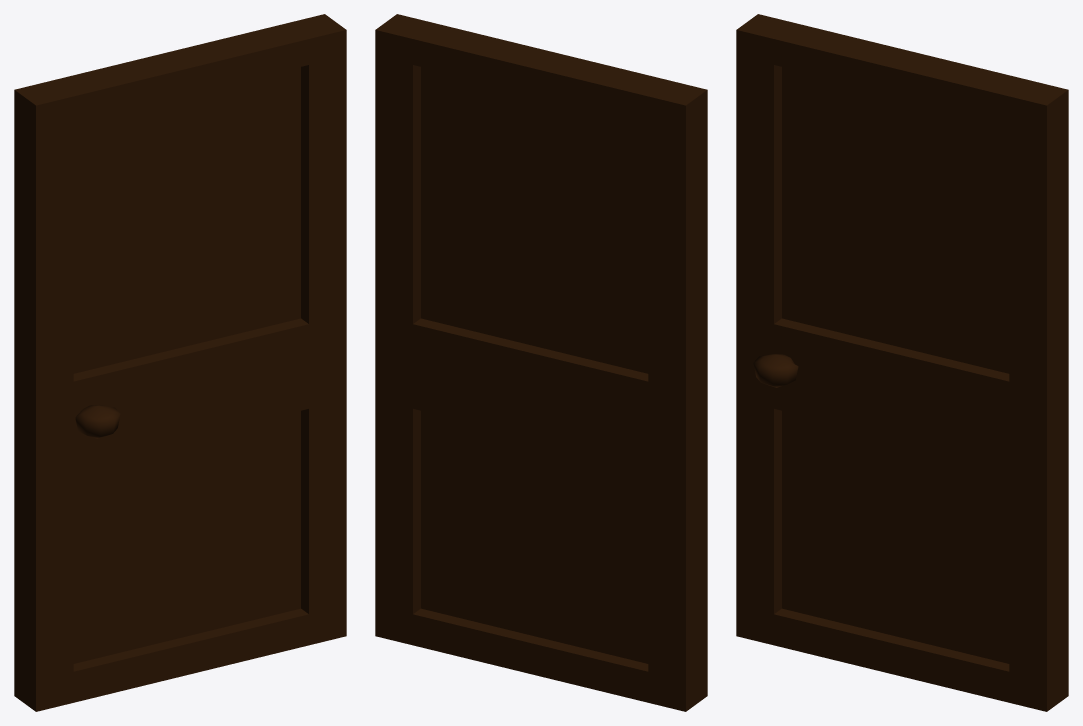
The model's file is ajto_b.FBX.
The picture shows the model from 3 angles, left to right: view 1: azimuth 30°, elevation 25°; view 2: azimuth 150°, elevation 25°; view 3: azimuth 330°, elevation 25°; orthographic projection.
Visible parts, largest first — view 1: ajto_b; view 2: ajto_b; view 3: ajto_b.
Part boxes in pixels (bbox=[...]): ajto_b: bbox=[14, 14, 346, 711]; ajto_b: bbox=[375, 14, 707, 711]; ajto_b: bbox=[736, 14, 1068, 711].
Size of the model in its own units: 316 by 590 by 76.06.
